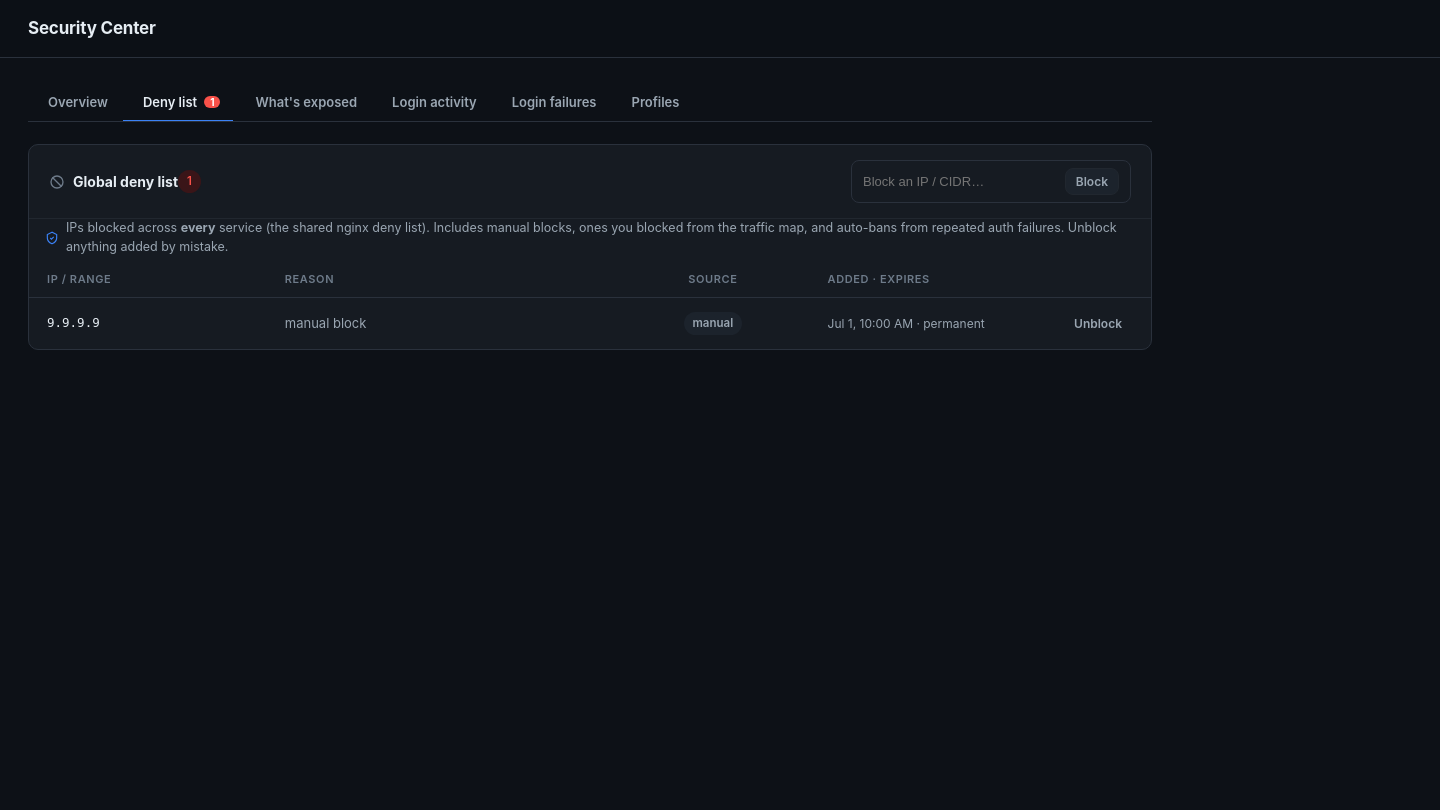
Test: SecurityCenter — deny list › confirms an unblock through a dialog before removing
Click the button "Unblock": (1098, 324) left=1063, top=310, right=1133, bottom=337
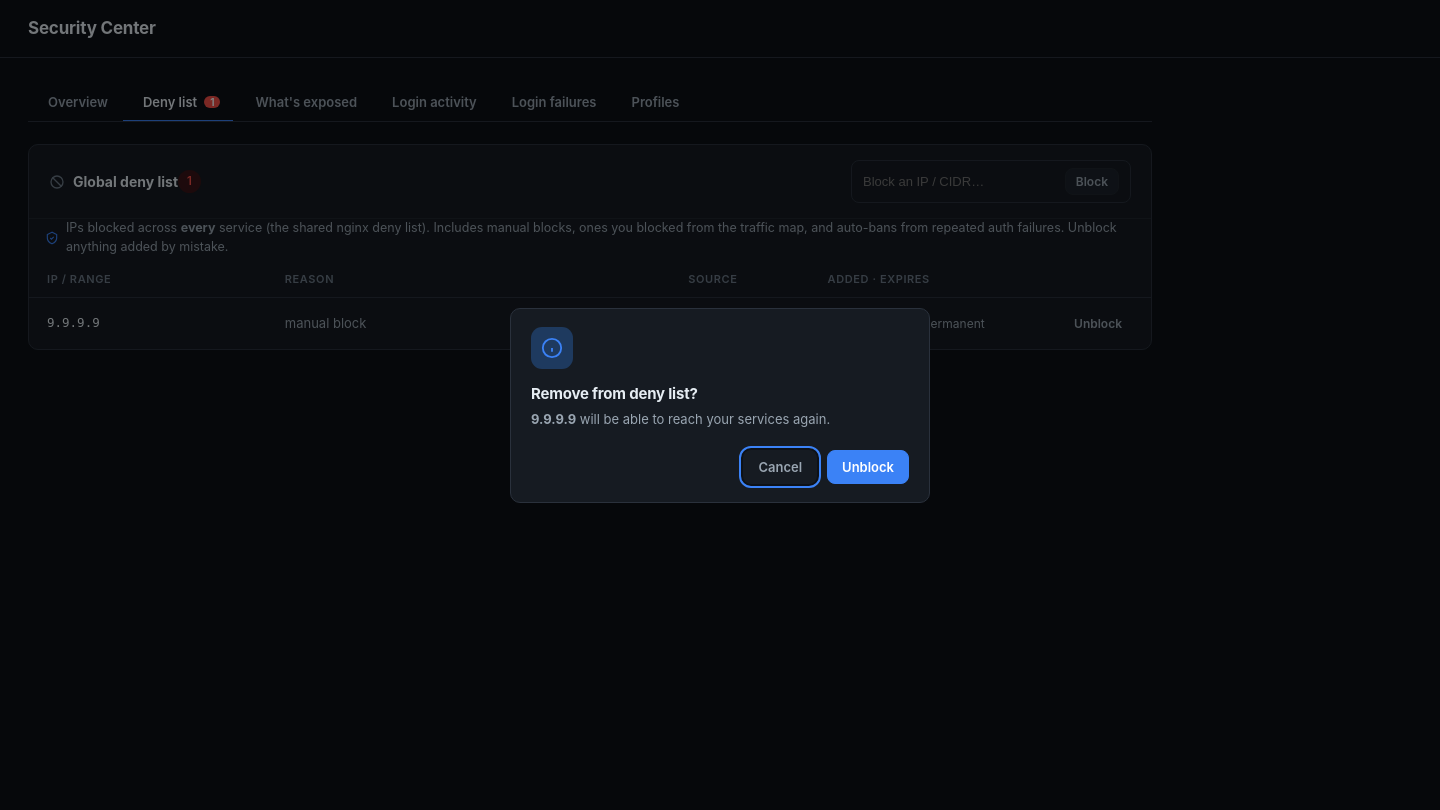
Click the button "Unblock": (868, 466) left=827, top=450, right=909, bottom=484
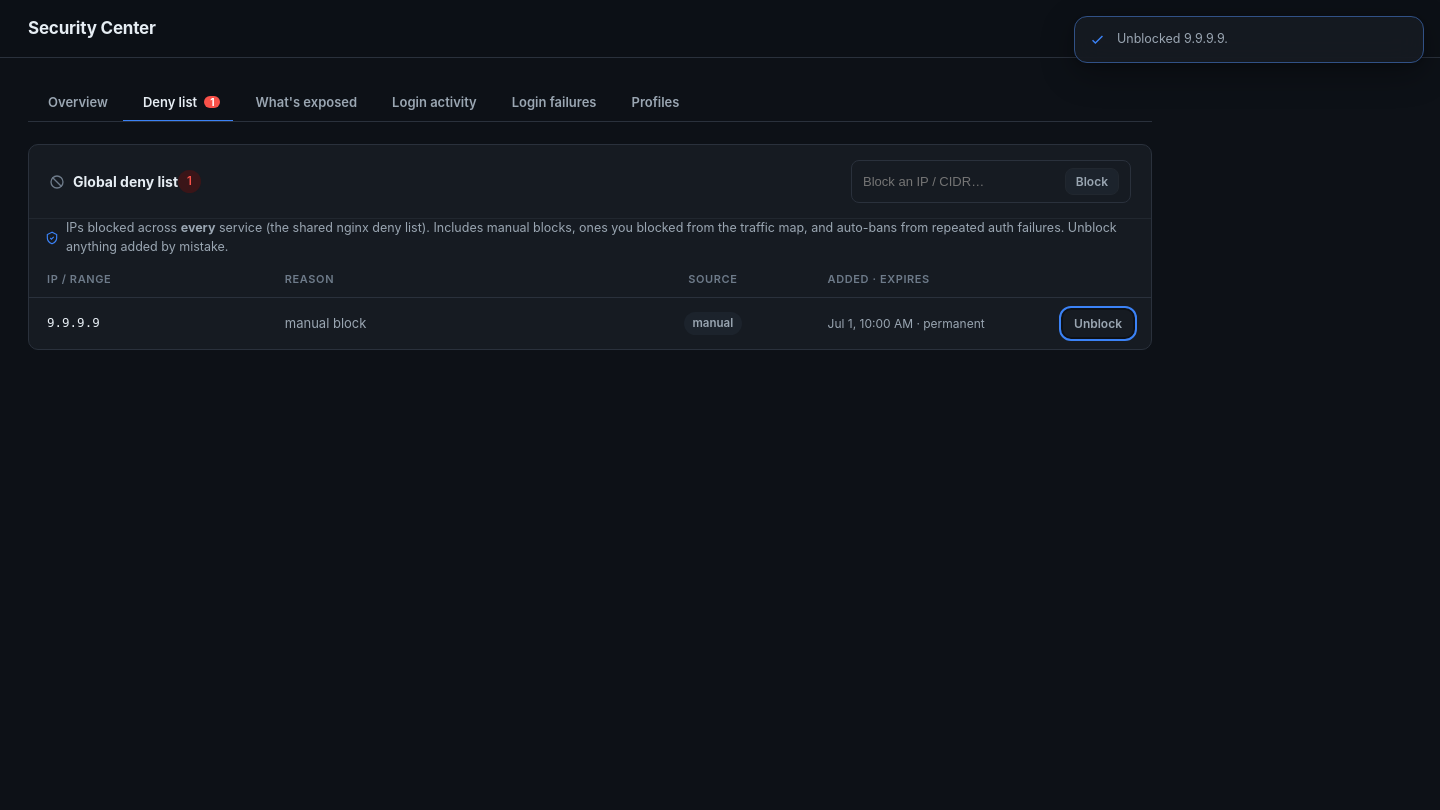
Expected: the text "Unblocked 9.9.9.9." is shown, left=1117, top=31, right=1228, bottom=46
